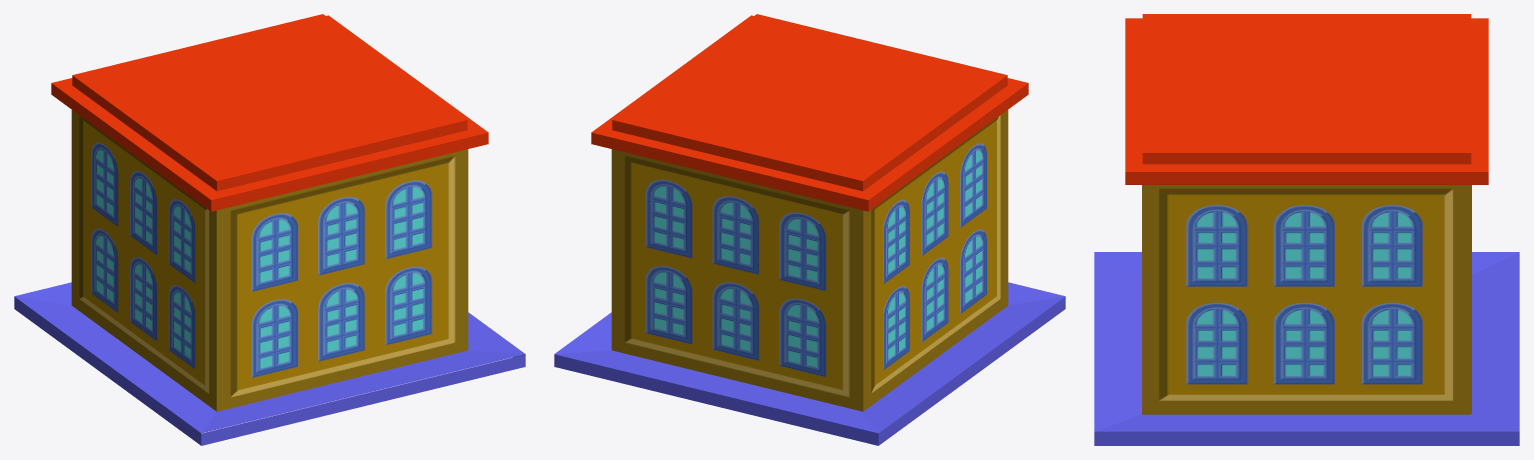
File: building set 2_03.fbx
The picture shows the model from 3 angles, left to right: view 1: azimuth 30°, elevation 25°; view 2: azimuth 150°, elevation 25°; view 3: azimuth 270°, elevation 25°; orthographic projection. The views are drawn at different scales.
Parts seen in each view (by area): view 1: pCube5; view 2: pCube5; view 3: pCube5.
Boxes of the visible parts, <box> form: pCube5: <box>14,14,525,445</box>; pCube5: <box>554,14,1065,445</box>; pCube5: <box>1094,14,1519,445</box>.
Size of the model in its own units: 6.42 by 4.54 by 6.42.
